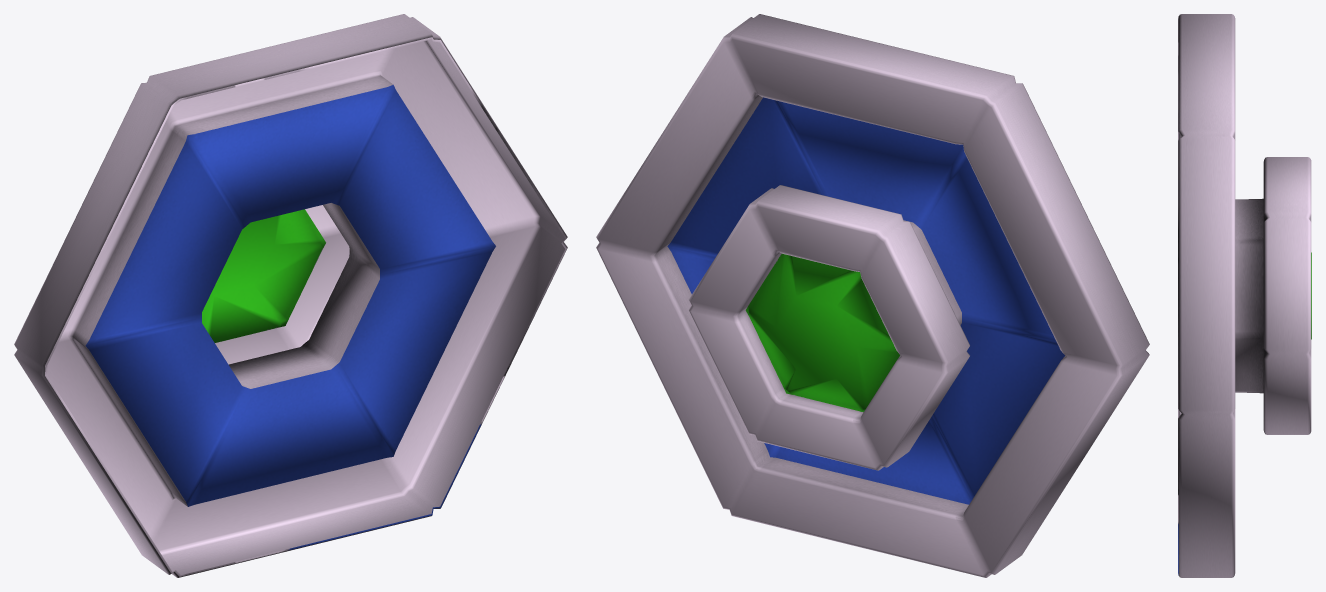
Rendered from fountain.fbx.
The picture shows the model from 3 angles, left to right: view 1: azimuth 30°, elevation 25°; view 2: azimuth 150°, elevation 25°; view 3: azimuth 270°, elevation 25°; orthographic projection. The views are drawn at different scales.
Parts seen in each view (by area): view 1: fountain; view 2: fountain; view 3: fountain.
Part boxes in pixels (x1=…): fountain: x1=14, y1=14, x2=567, y2=577; fountain: x1=596, y1=14, x2=1149, y2=577; fountain: x1=1178, y1=14, x2=1311, y2=577.
Size of the model in its own units: 59360 by 51962 by 14046.
